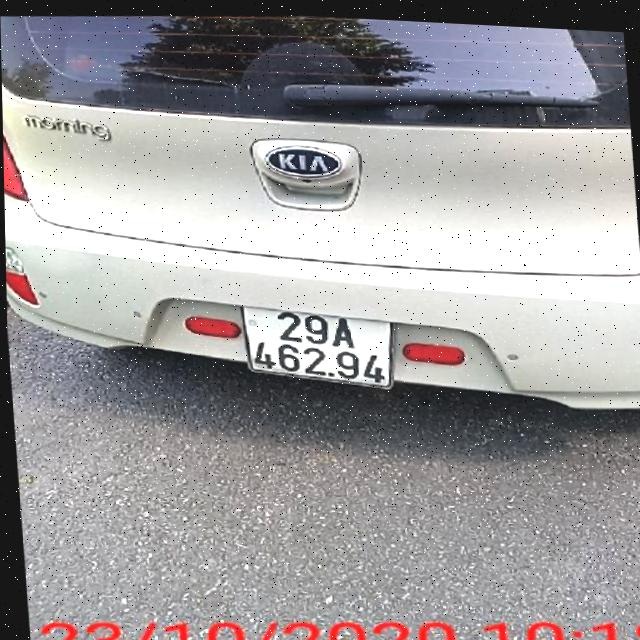car: (0, 0, 636, 448)
plate: (231, 295, 402, 399)
